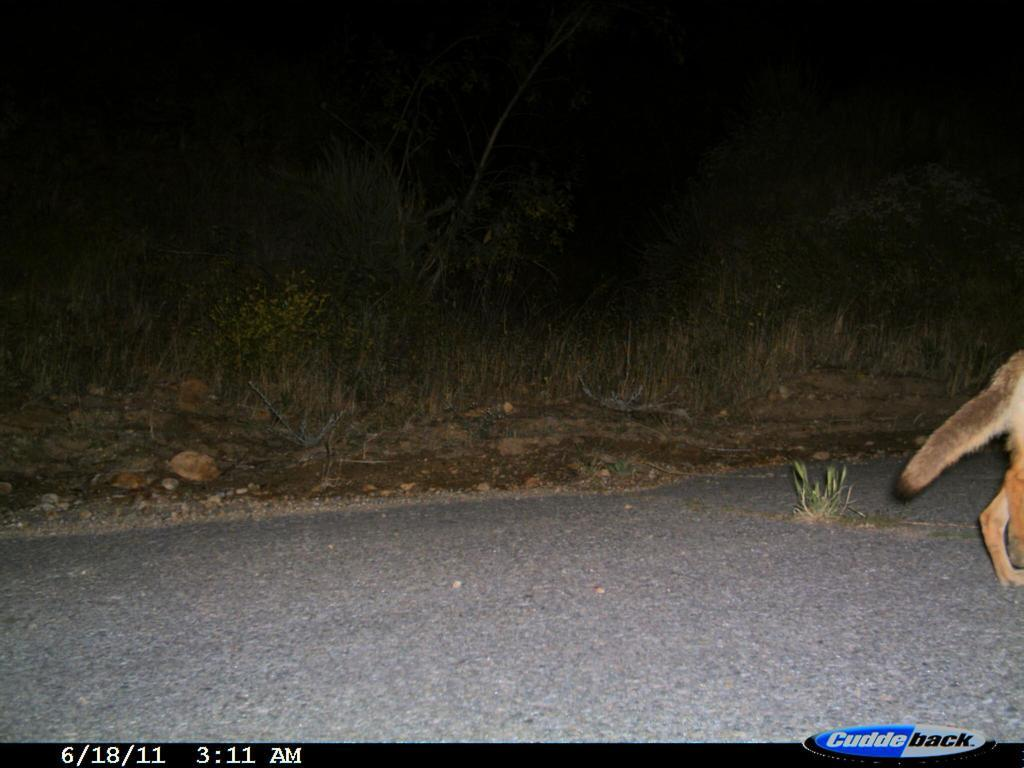coyote: (888, 335, 1023, 591)
